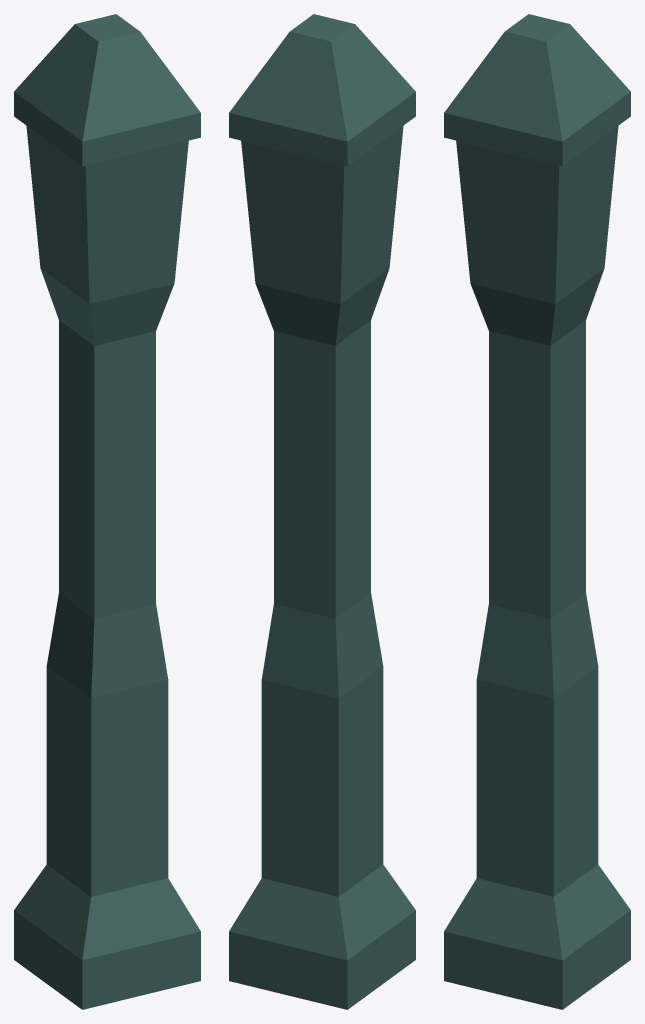
Rendered from lightpost_01.glb.
3 views of the same model, side by side, from view 1: azimuth 30°, elevation 25°; view 2: azimuth 150°, elevation 25°; view 3: azimuth 330°, elevation 25° (orthographic).
Parts seen in each view (by area): view 1: Mesh1 Lightpost Model; view 2: Mesh1 Lightpost Model; view 3: Mesh1 Lightpost Model.
Boxes of the visible parts, left/top/right/bottom form: Mesh1 Lightpost Model: left=14, top=14, right=200, bottom=1009; Mesh1 Lightpost Model: left=229, top=14, right=415, bottom=1009; Mesh1 Lightpost Model: left=444, top=14, right=630, bottom=1009.
Bounding box in the file's own units: 0.5 × 3.8 × 0.5.
